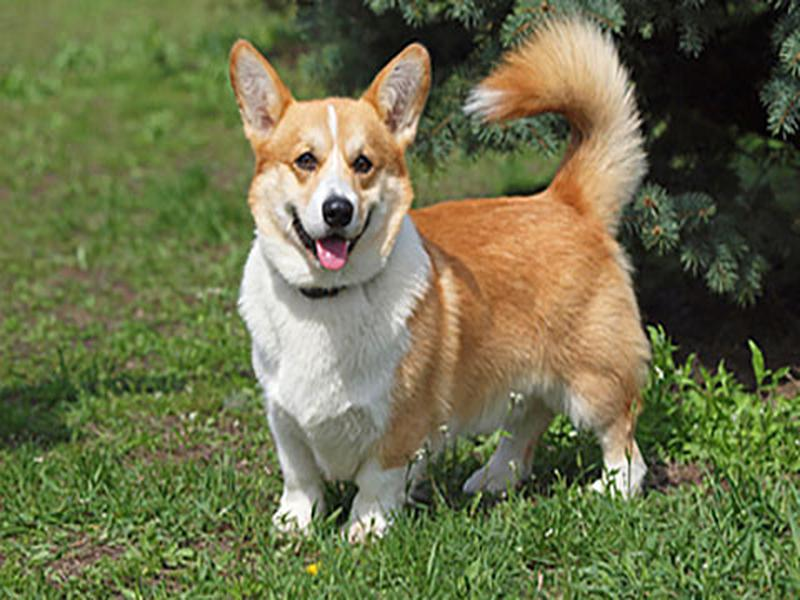corgi: (228, 38, 433, 276)
